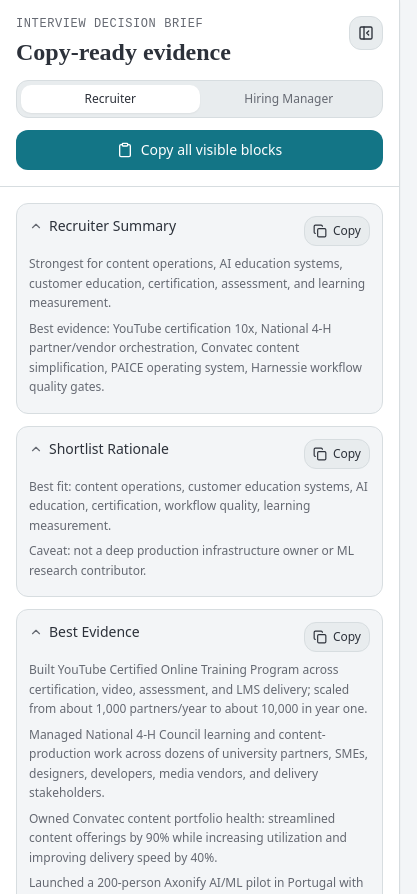
Test: DecisionBriefSidebar › collapses and re-expands a block on tap without copying
Click the button "Recruiter Summary" at (162, 226), box [29,216,296,236]
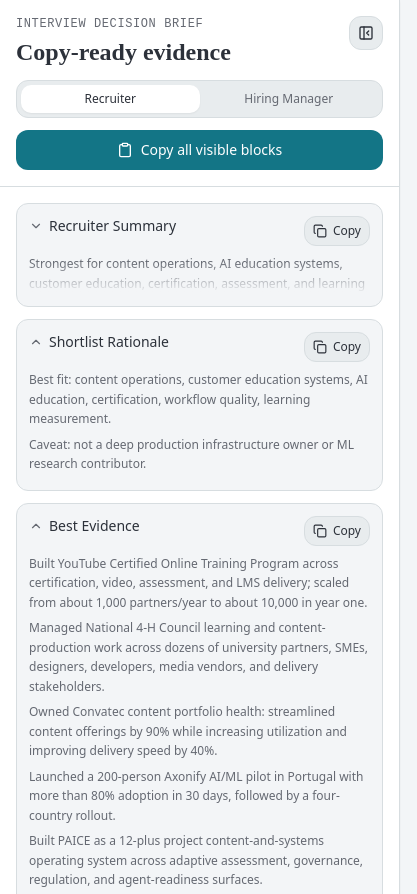
Check: the button "Recruiter Summary" is collapsed
Click the button "Recruiter Summary" at (162, 226), box [29,216,296,236]
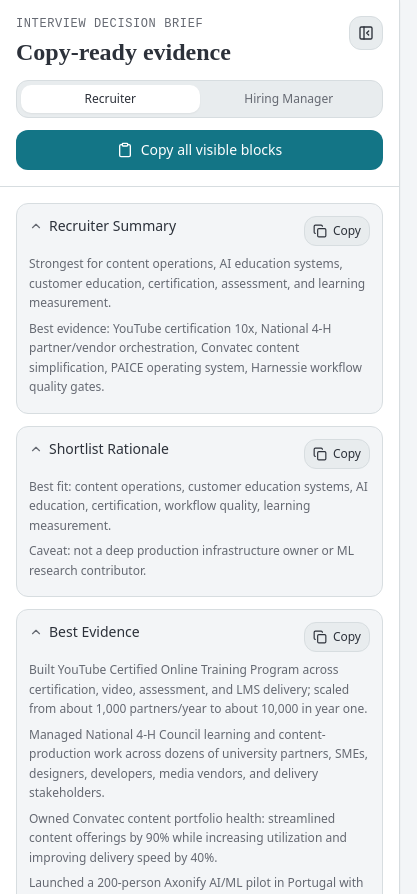
Check: the button "Recruiter Summary" is expanded, box [29,216,296,236]
